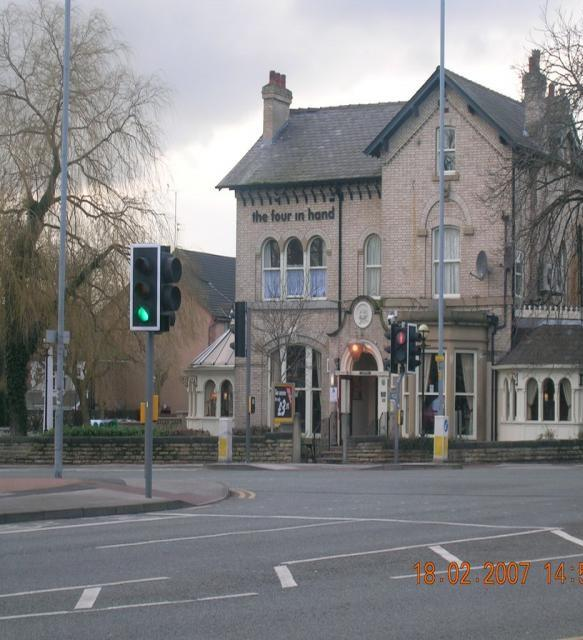green_light: (130, 244, 160, 329)
